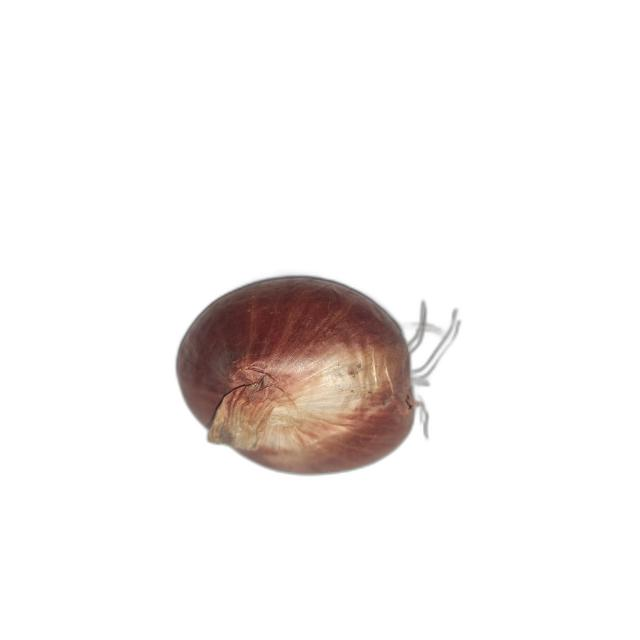onion: (176, 277, 429, 476)
